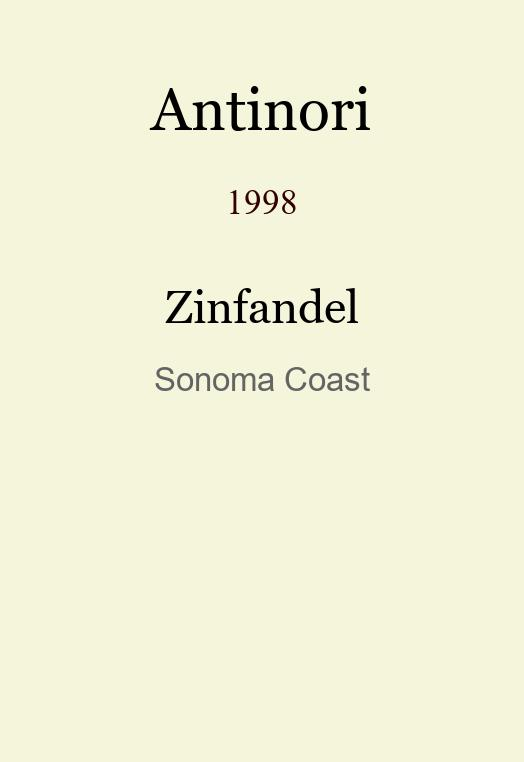brand: (151, 75, 373, 120)
region: (154, 361, 370, 385)
variety: (165, 280, 359, 315)
vintage: (226, 182, 298, 206)
